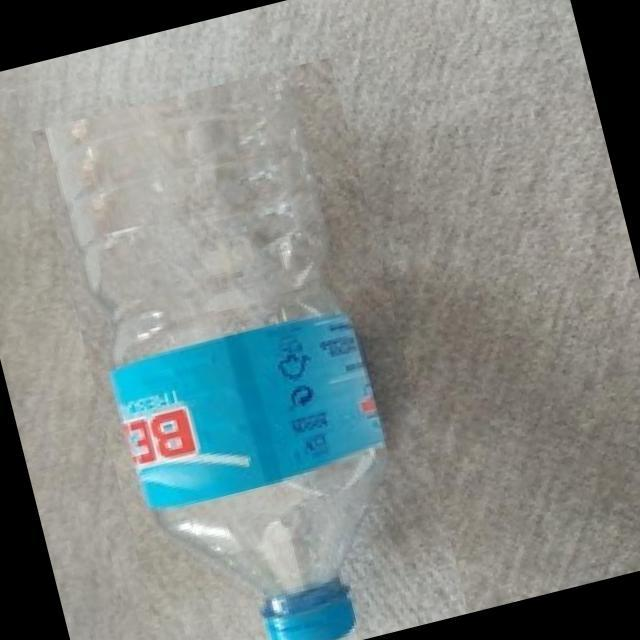good: (31, 56, 469, 640)
